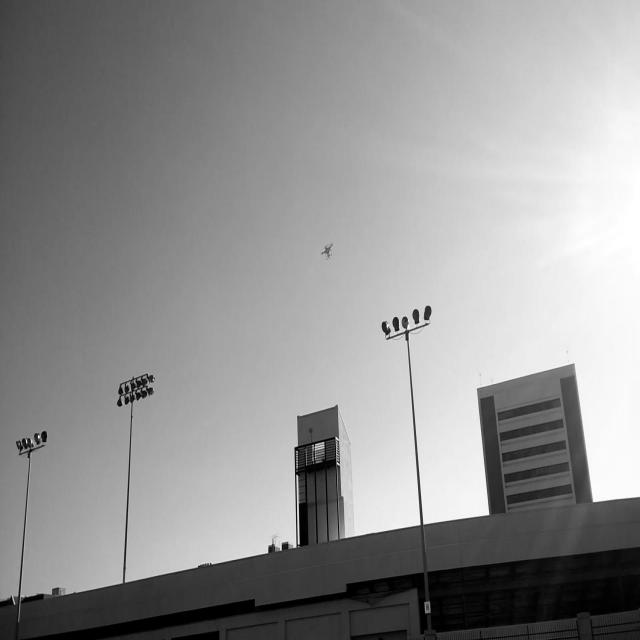drone: (318, 238, 336, 264)
